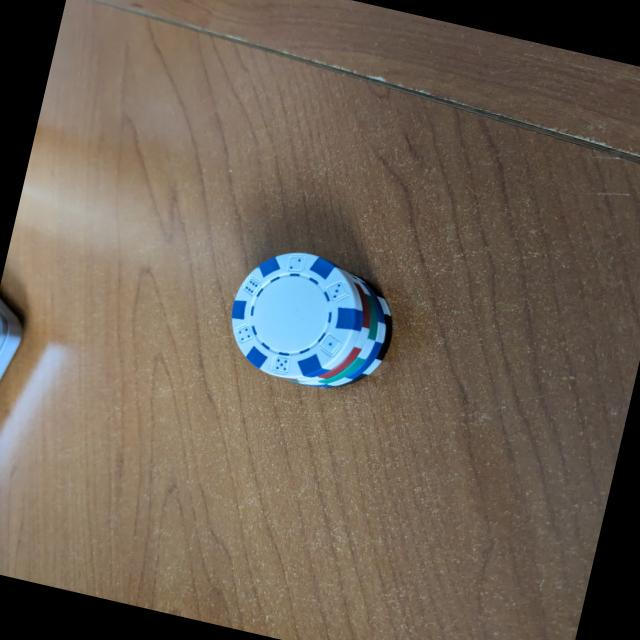chips: (231, 250, 394, 387)
